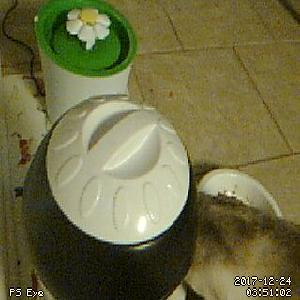cat: (180, 189, 300, 300)
fountain: (33, 1, 137, 79)
